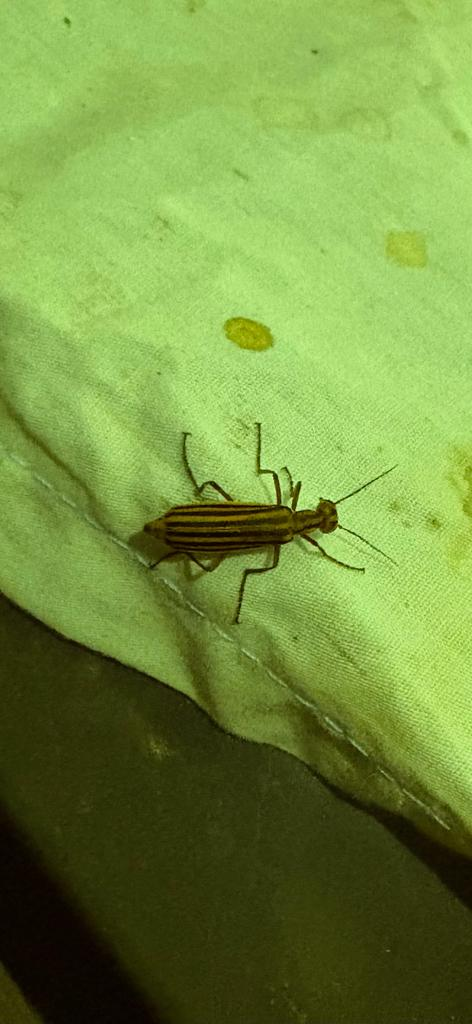blister_beetle: (85, 393, 428, 673)
